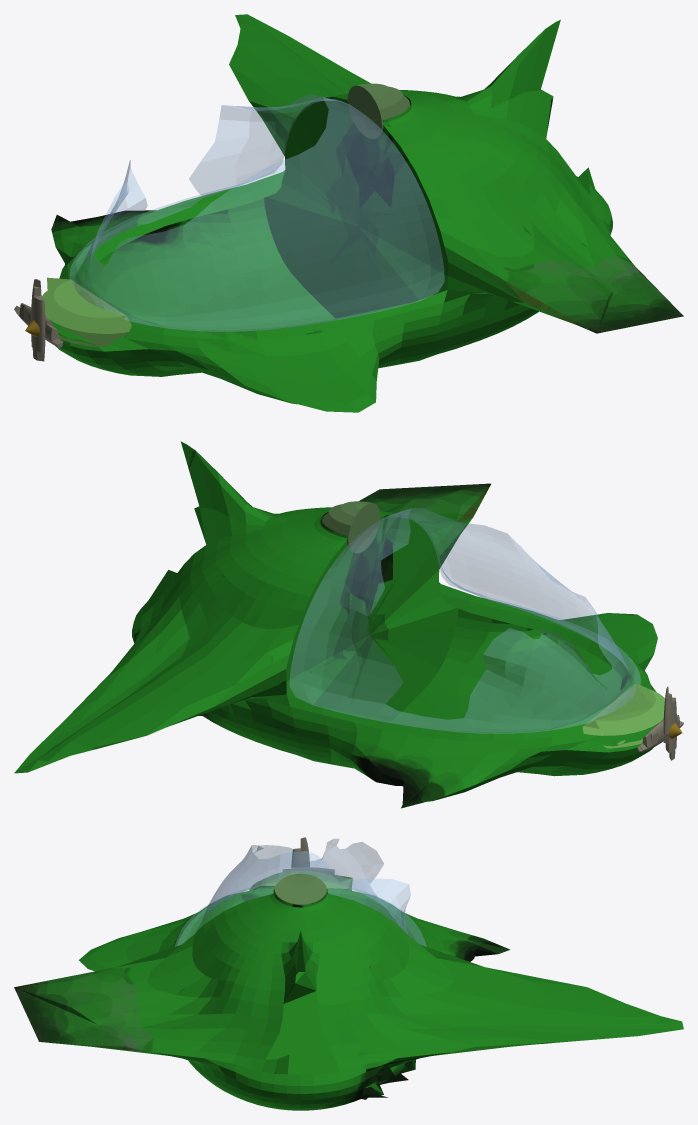
File: Plane2GreenDamage.fbx
3 views of the same model, one above another, from view 1: azimuth 30°, elevation 25°; view 2: azimuth 150°, elevation 25°; view 3: azimuth 270°, elevation 25° (orthographic). The views are drawn at different scales.
Parts seen in each view (by area): view 1: Cockpit, Canopy, Nose, Inlet, Propeler1 damage; view 2: Cockpit, Canopy, Nose, Inlet, Propeler1 damage; view 3: Cockpit, Canopy, Inlet, Nose.
Boxes of the visible parts, x1,y1,x2,y2 form: Cockpit: [45, 14, 683, 412]; Canopy: [70, 94, 444, 331]; Nose: [42, 277, 131, 346]; Inlet: [347, 83, 410, 138]; Propeler1 damage: [31, 279, 45, 361]; Cockpit: [14, 441, 663, 808]; Canopy: [290, 508, 640, 733]; Nose: [582, 684, 664, 748]; Inlet: [322, 501, 380, 553]; Propeler1 damage: [663, 686, 676, 760]; Cockpit: [14, 886, 683, 1110]; Canopy: [175, 839, 426, 946]; Inlet: [274, 873, 327, 904]; Nose: [249, 870, 352, 890].
Bounding box in the file's own units: 461 × 200 × 598.
